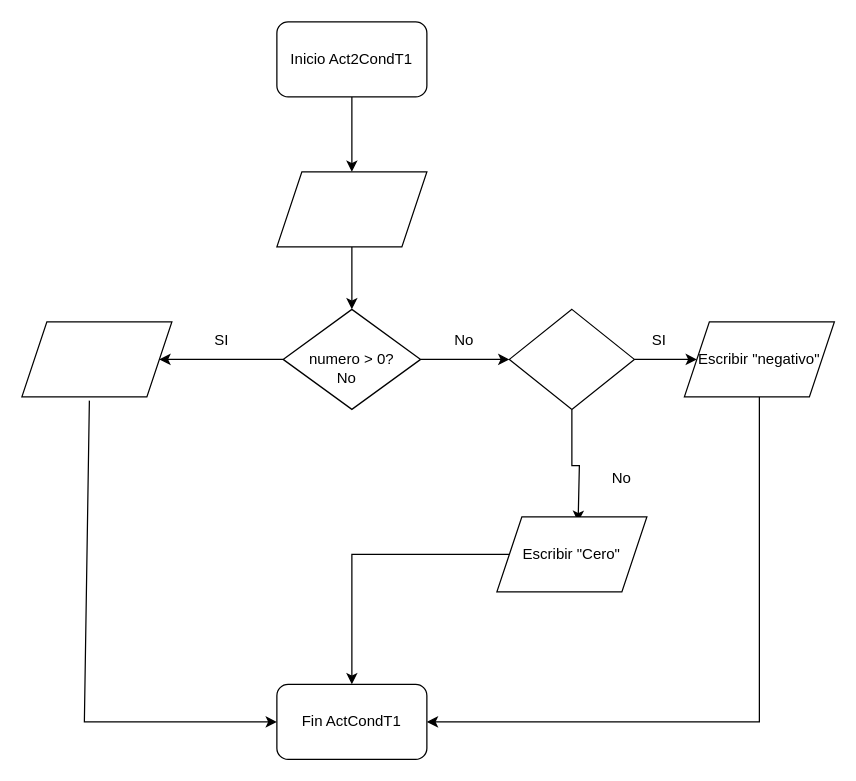
This 856x781 diagram has some shape labels left out. Here are the shapes that lost their labels. From the top down, the centre of each, then its label:
(351,209): Leer numero
(96,359): Escribir "positivo"
(571,358): numero < 0?
